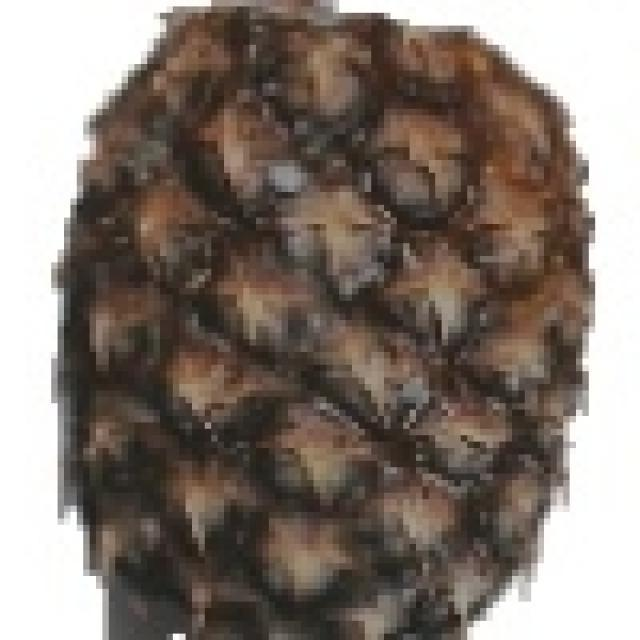pineapple: (56, 0, 592, 640)
